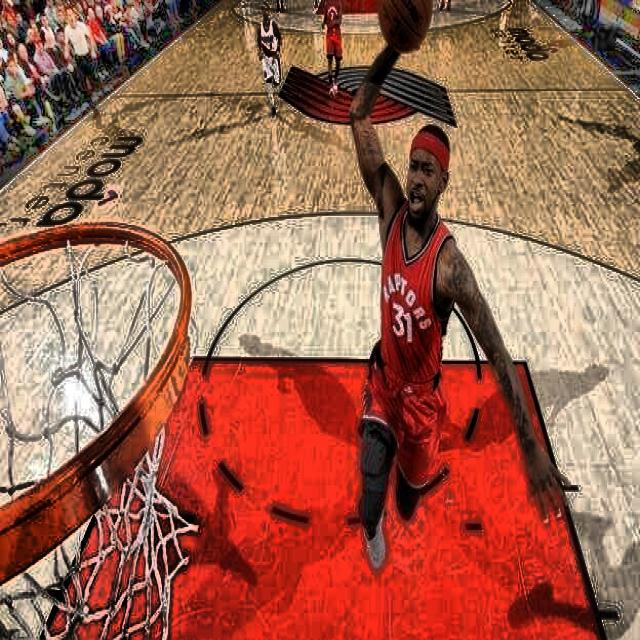board: (376, 0, 432, 54)
rim: (2, 222, 194, 640)
